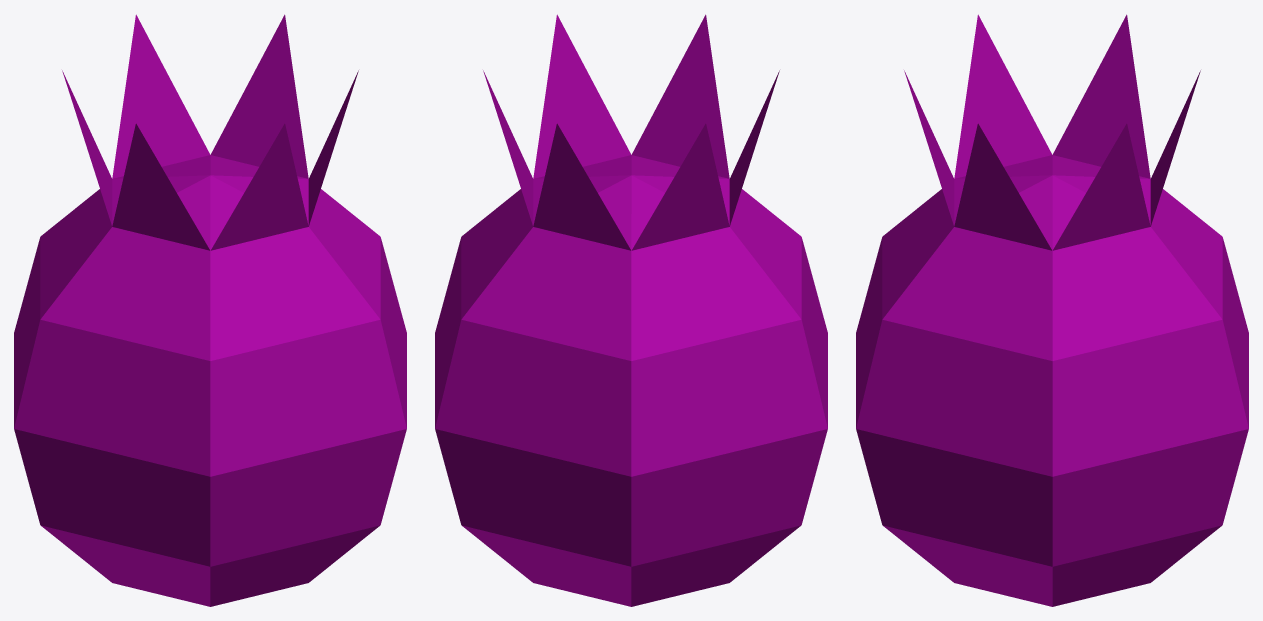
The model's file is grenade.fbx.
3 renders of one model, left to right at view 1: azimuth 30°, elevation 25°; view 2: azimuth 150°, elevation 25°; view 3: azimuth 270°, elevation 25°, orthographic.
Visible parts, largest first — view 1: grenade; view 2: grenade; view 3: grenade.
Boxes of the visible parts, x1,y1,x2,y2 form: grenade: [14, 14, 406, 606]; grenade: [435, 14, 827, 606]; grenade: [856, 14, 1248, 606].
Size of the model in its own units: 11.47 by 14.45 by 9.94.
